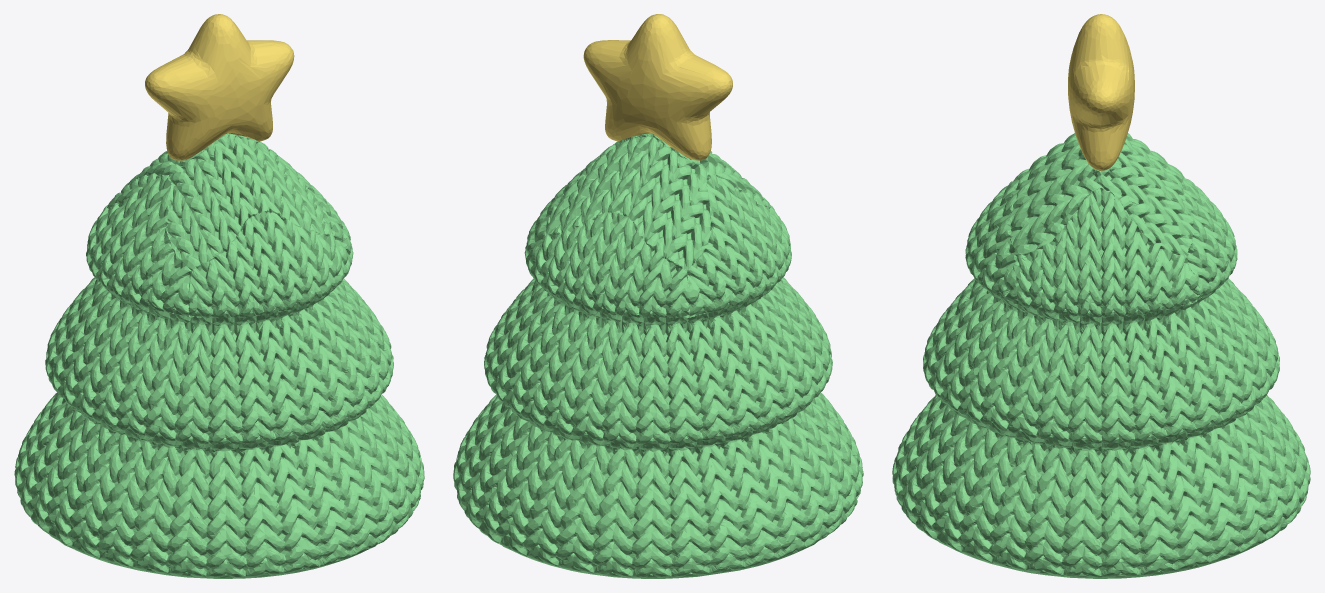
File: arbol-tejido.glb
The picture shows the model from 3 angles, left to right: view 1: azimuth 30°, elevation 25°; view 2: azimuth 150°, elevation 25°; view 3: azimuth 270°, elevation 25°; orthographic projection.
Visible parts, largest first — view 1: arbol, estrella; view 2: arbol, estrella; view 3: arbol, estrella.
Part boxes in pixels (box(x1,y1,x2,y2)): arbol: box(14, 133, 424, 578); estrella: box(145, 14, 294, 160); arbol: box(453, 133, 863, 578); estrella: box(583, 14, 732, 160); arbol: box(892, 133, 1310, 578); estrella: box(1068, 14, 1134, 175).
Size of the model in its own units: 0.0653 by 0.085 by 0.0666.
